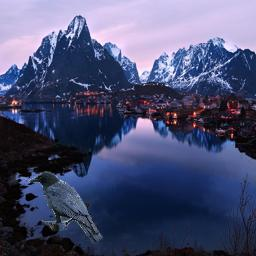Crow: (28, 171, 103, 244)
